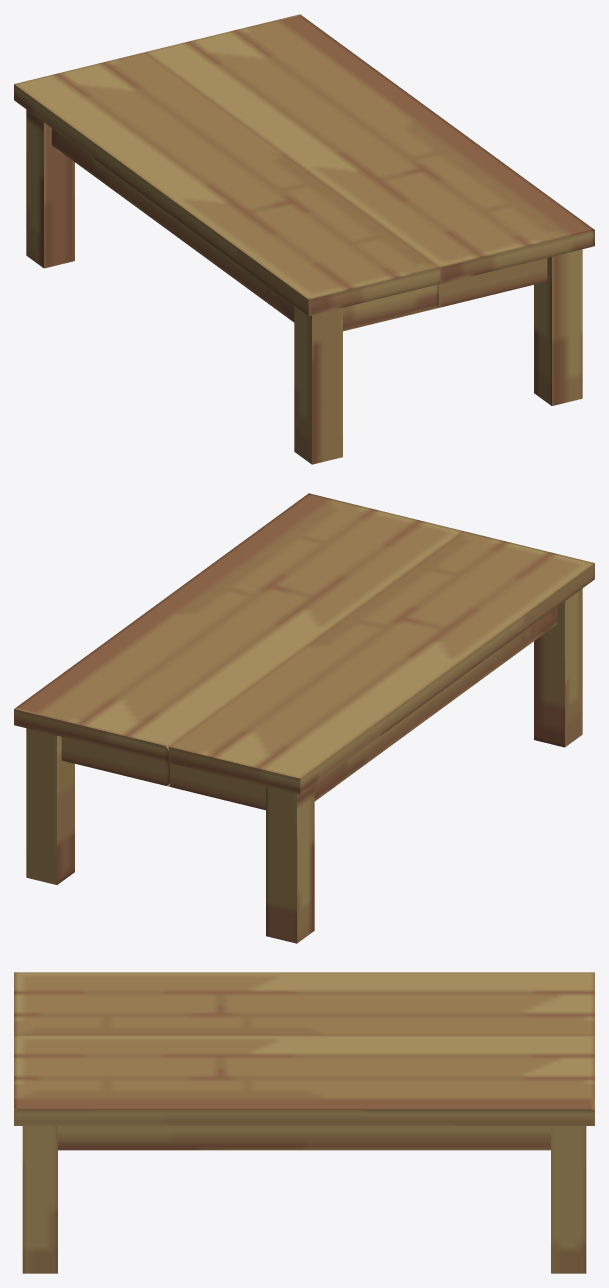
Rendered from bread_table.fbx.
The picture shows the model from 3 angles, top to bottom: view 1: azimuth 30°, elevation 25°; view 2: azimuth 150°, elevation 25°; view 3: azimuth 270°, elevation 25°; orthographic projection.
Parts seen in each view (by area): view 1: cube.002; view 2: cube.002; view 3: cube.002.
Boxes of the visible parts, x1,y1,x2,y2 form: cube.002: [14, 14, 594, 464]; cube.002: [14, 493, 594, 943]; cube.002: [14, 972, 594, 1273].
Size of the model in its own units: 231 by 131 by 413.
